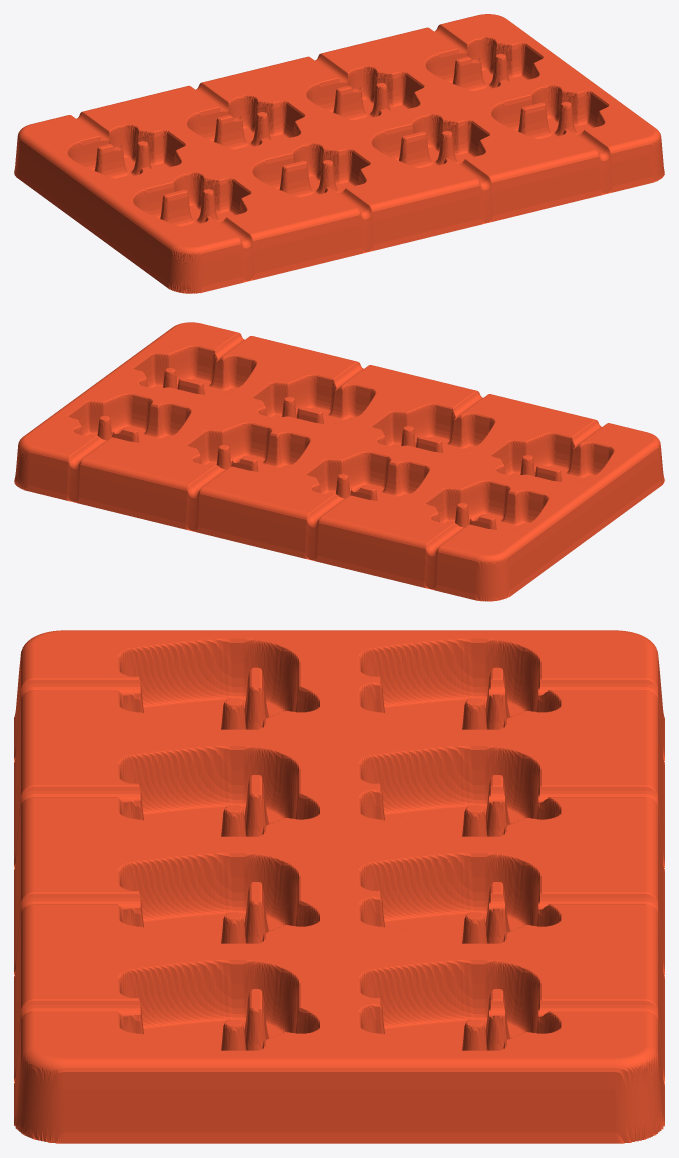
Rendered from mold.glb.
3 renders of one model, top to bottom at view 1: azimuth 30°, elevation 25°; view 2: azimuth 150°, elevation 25°; view 3: azimuth 270°, elevation 25°, orthographic. The views are drawn at different scales.
Visible parts, largest first — view 1: geometry_0; view 2: geometry_0; view 3: geometry_0.
Boxes of the visible parts, box(x1,y1,x2,y2) form: geometry_0: box(14, 14, 664, 293); geometry_0: box(14, 322, 664, 601); geometry_0: box(14, 630, 664, 1143).
Bounding box in the file's own units: 0.1907 × 0.0155 × 0.1184.
